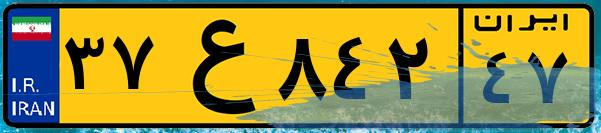2: (385, 28, 445, 110)
3: (57, 26, 110, 100)
4: (330, 28, 385, 110), (475, 38, 525, 113)
7: (525, 38, 570, 115), (110, 28, 158, 98)
8: (270, 28, 330, 110)
ع: (158, 12, 270, 120)
